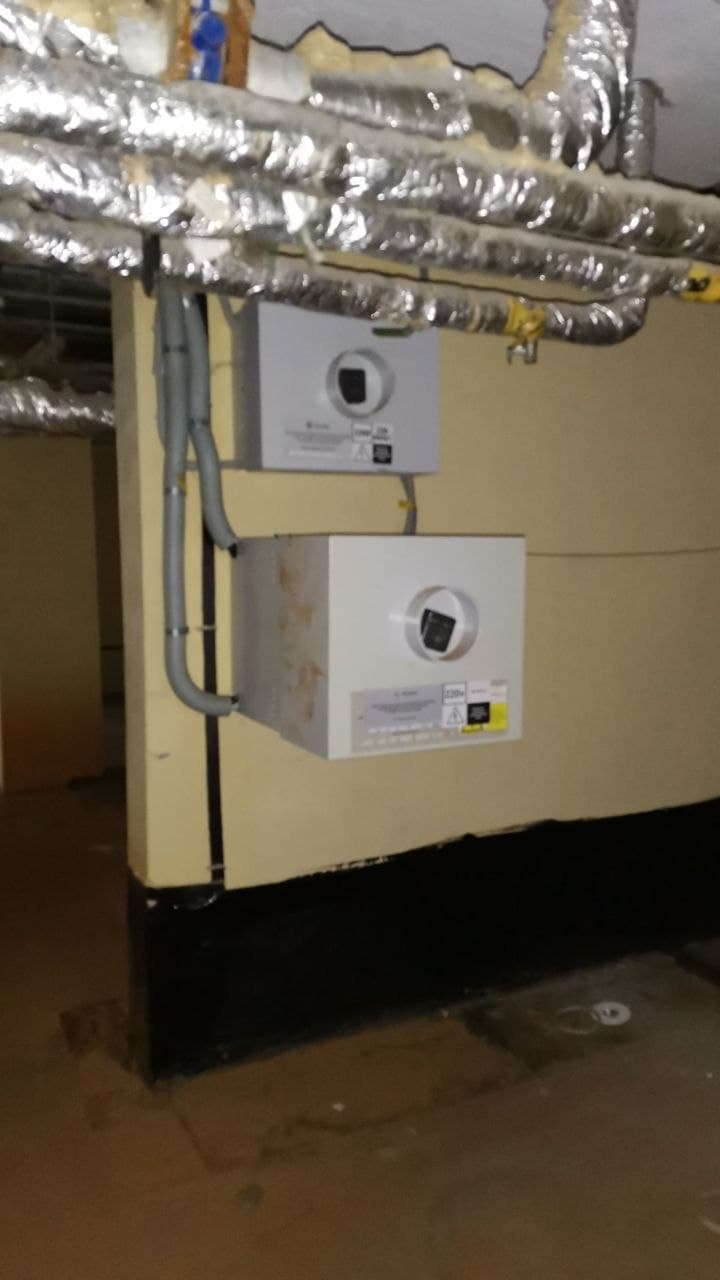shta-3: (231, 301, 442, 482)
shta-9: (228, 532, 527, 767)
